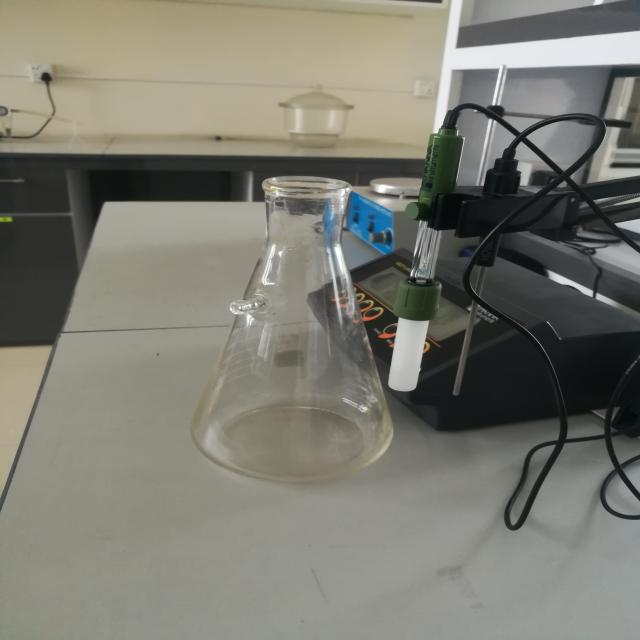Conical_Flask: (147, 142, 450, 508)
